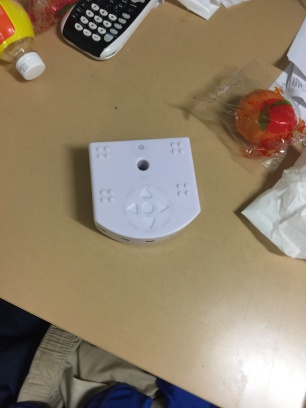thymio: (70, 132, 208, 249)
